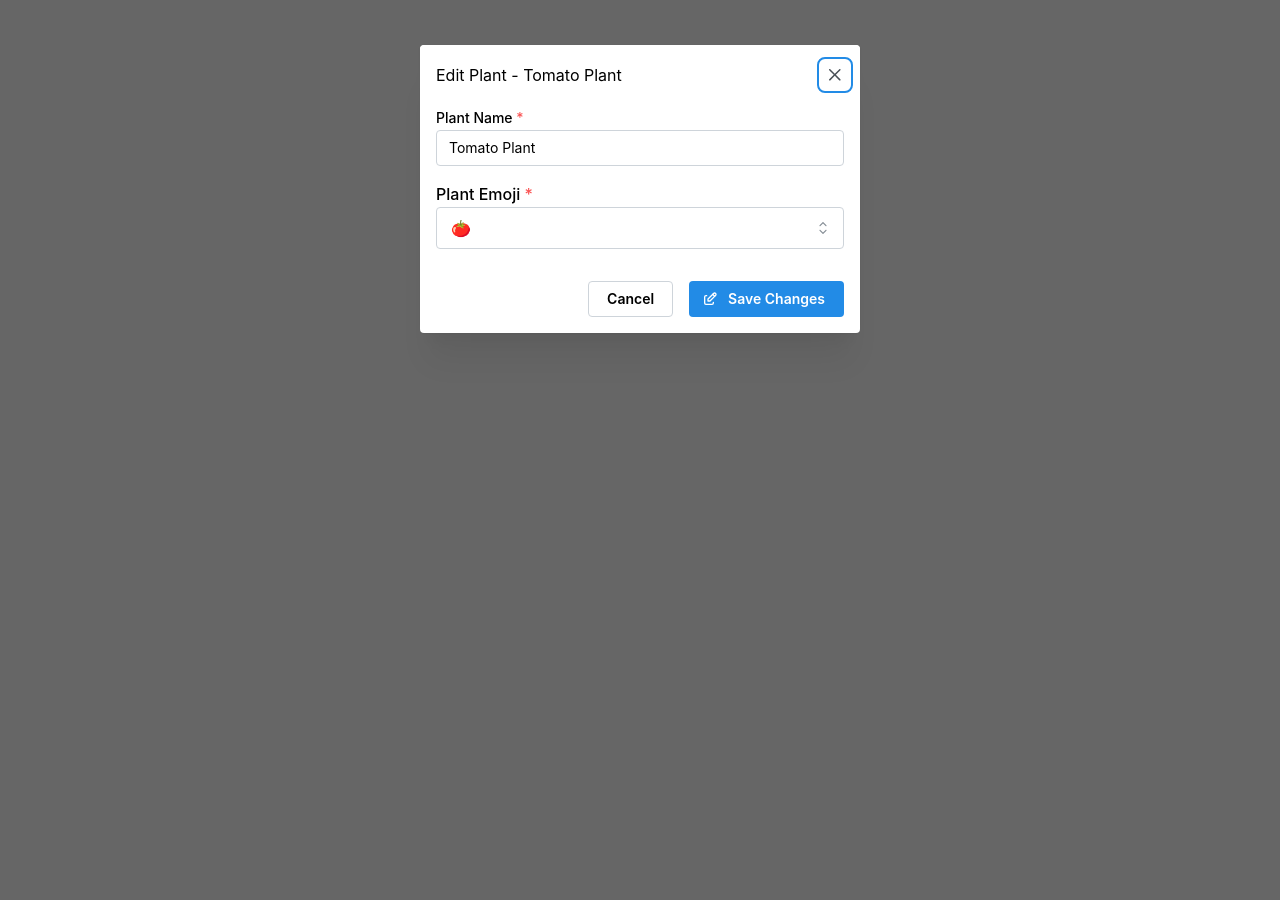
Test case: PlantEditModal Component › Save Functionality › shows loading state while saving
Click the button "Save Changes".
click(767, 299)  # box [689, 281, 844, 317]
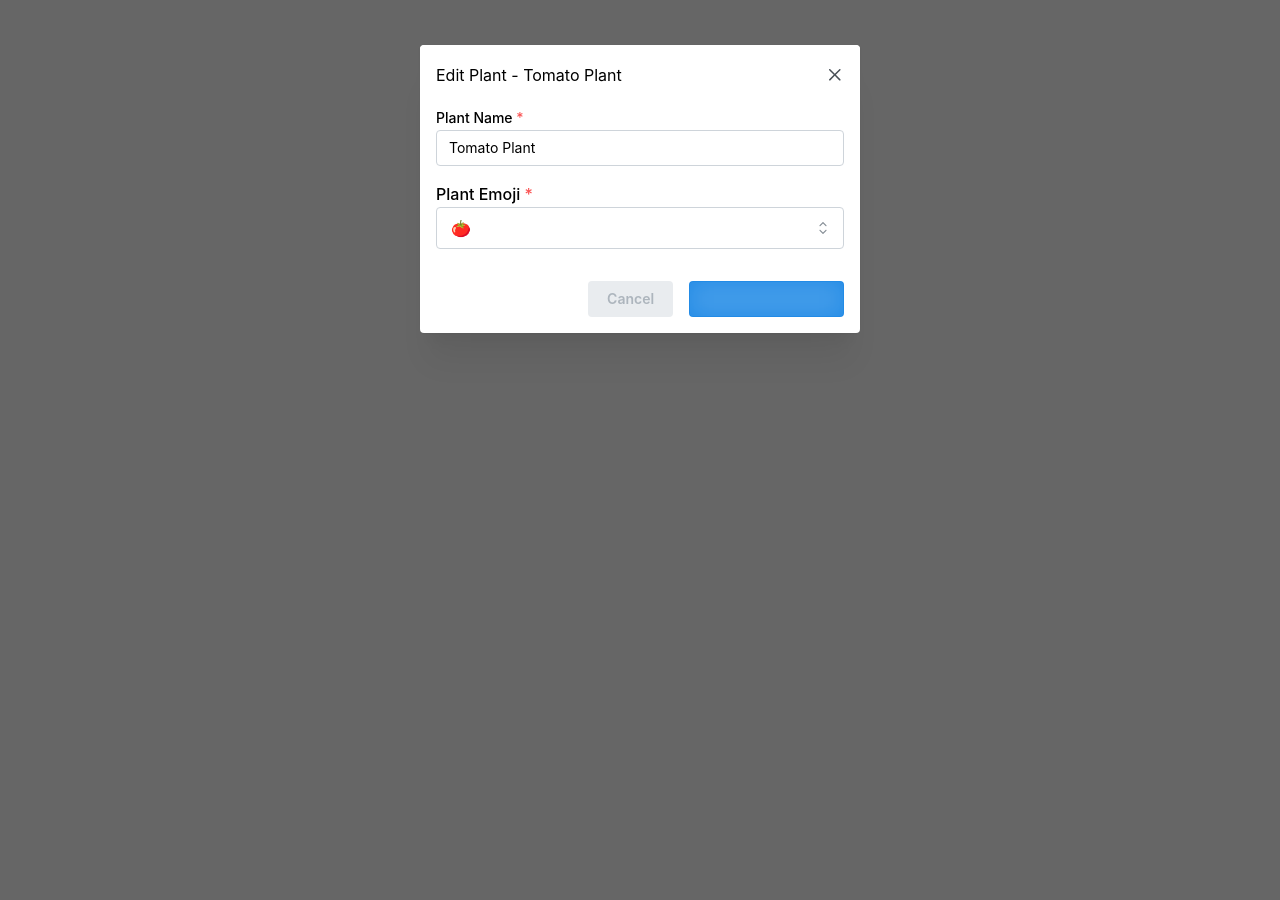
expect the button named "Save Changes" below "Plant Emoji" is disabled: met, box [689, 281, 844, 317]
expect the button "Cancel" is disabled: met, box [588, 281, 673, 317]
